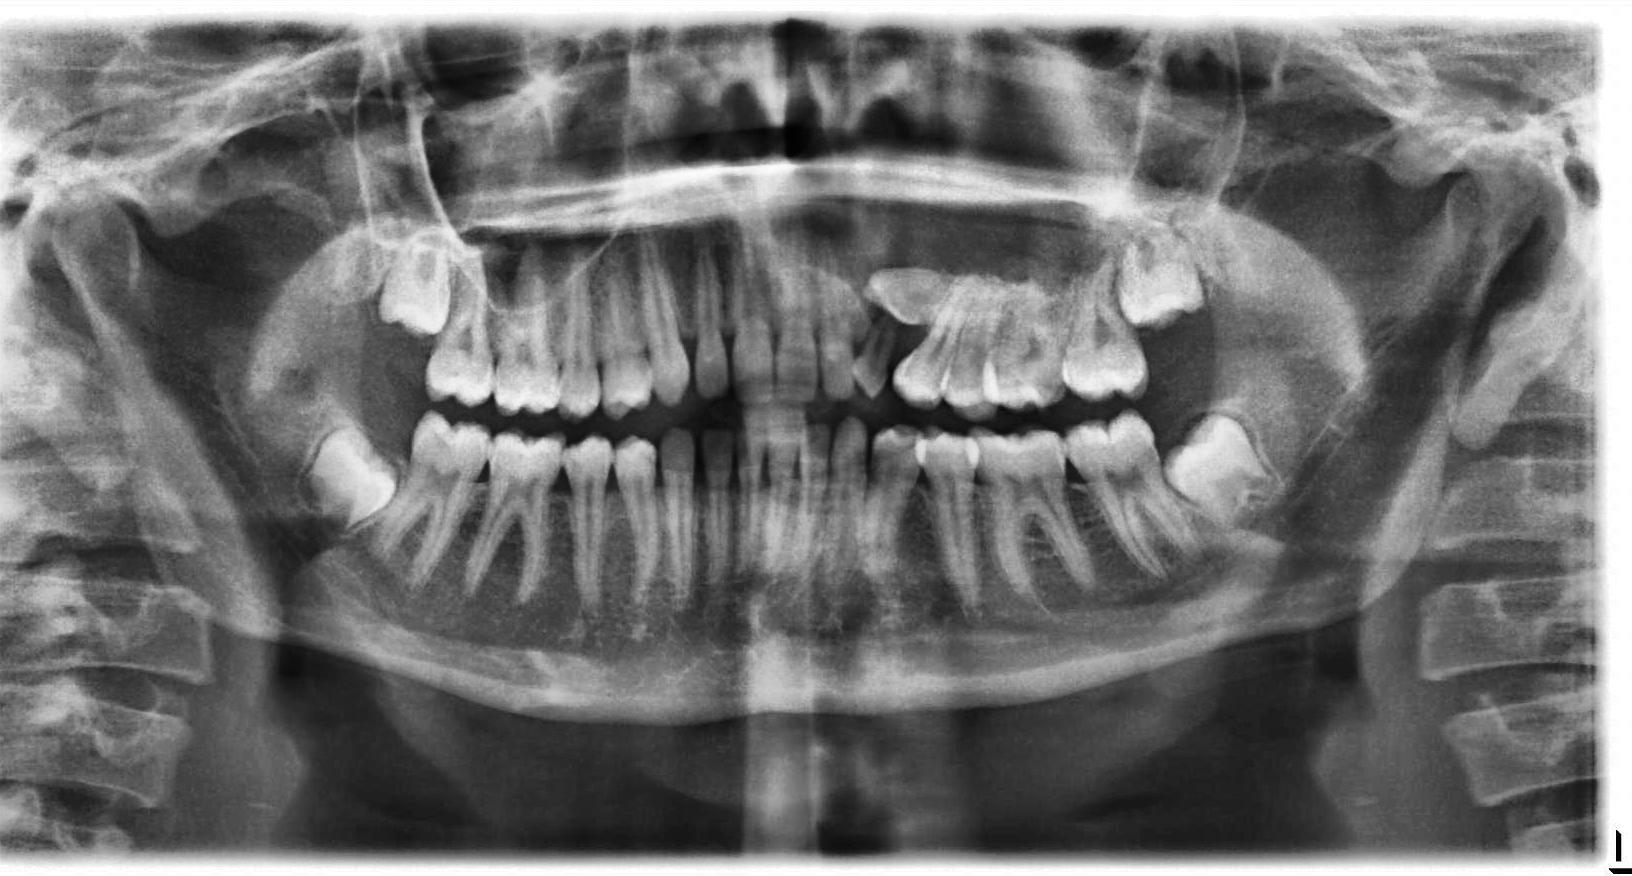enflamatuar: (767, 196, 1104, 328)
